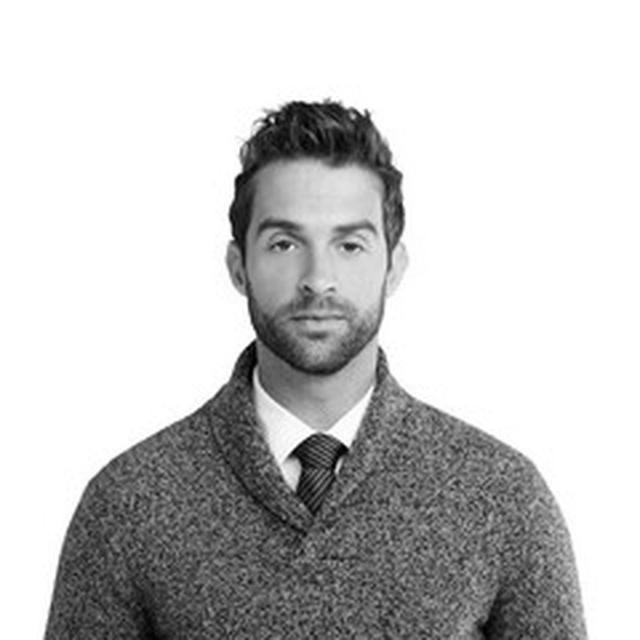Neutral: (245, 168, 388, 374)
